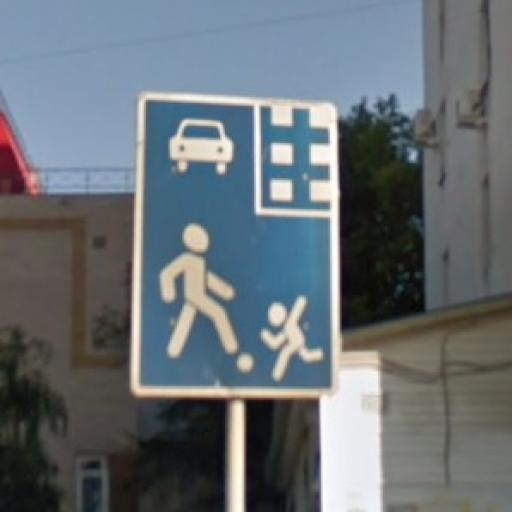traffic_sign: (132, 92, 347, 404)
